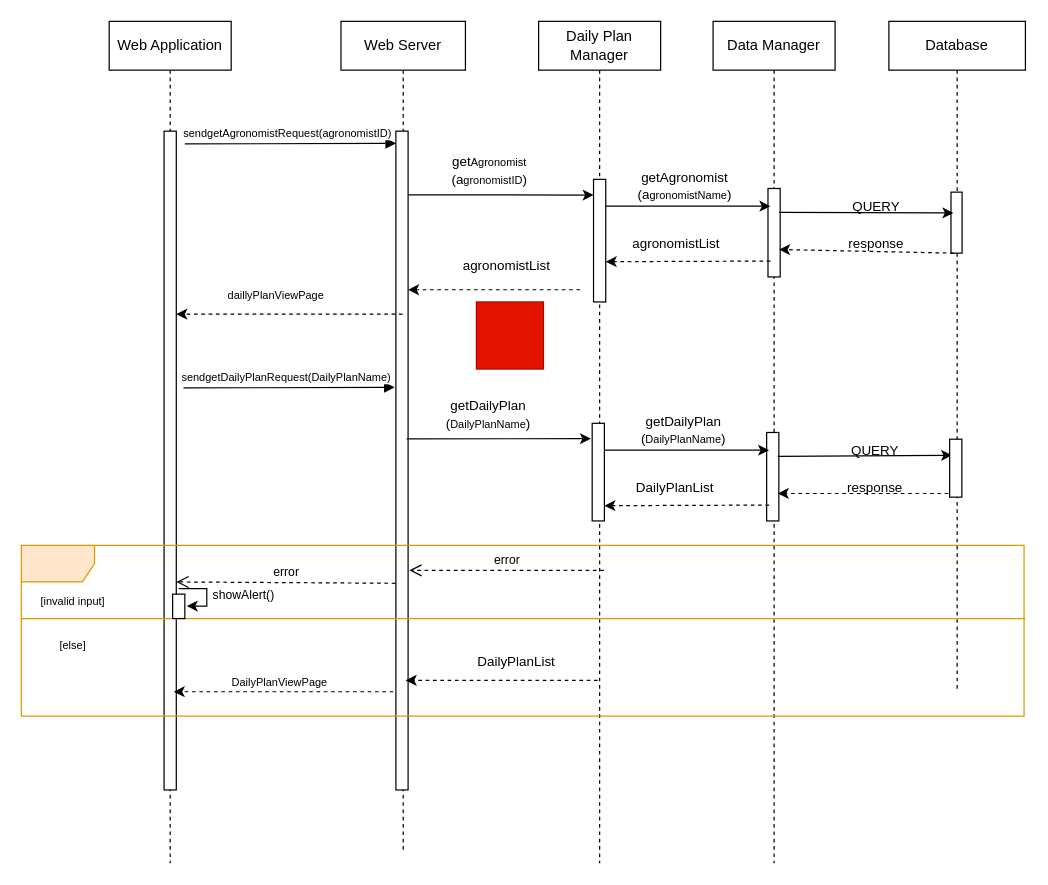
This 1048x885 diagram has some shape labels left out. Each missing label, with the box of its shape:
alt: (20, 544, 1024, 716)
获取的是dailyplan List: (475, 301, 544, 369)
